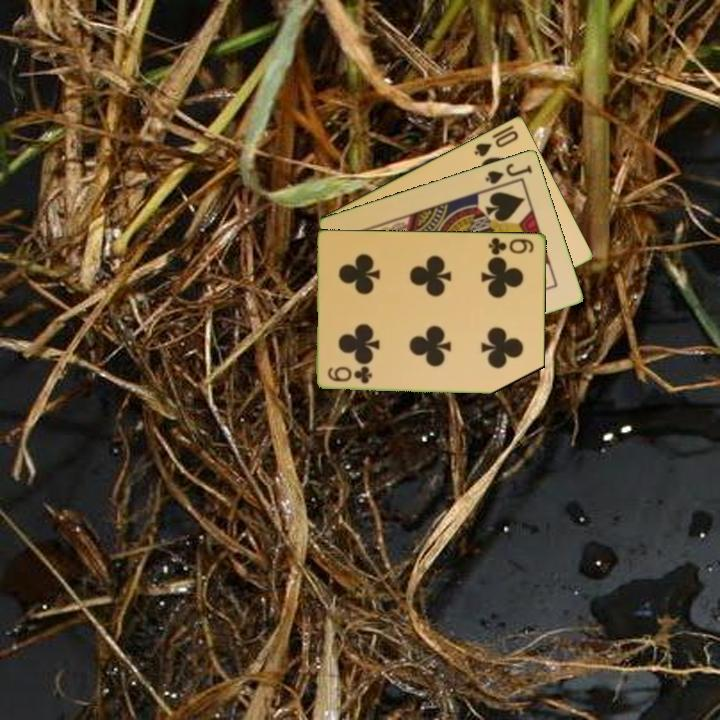10s: (470, 126, 522, 159)
6c: (485, 234, 537, 257), (325, 364, 376, 386)
Js: (482, 159, 535, 187)
